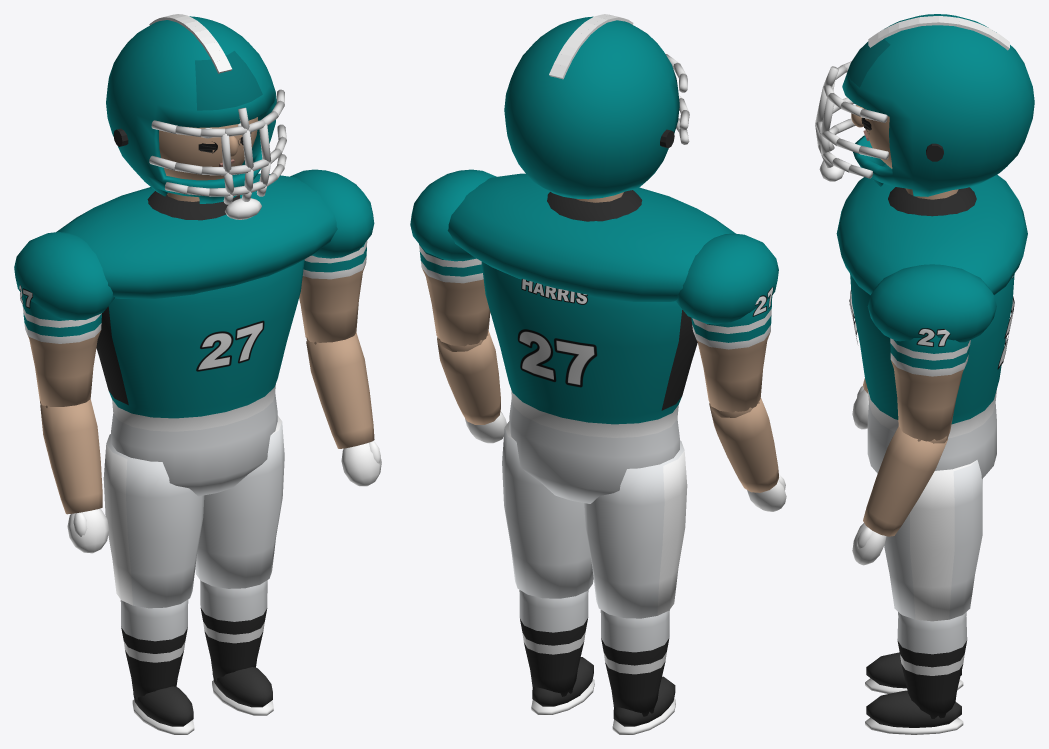
Rendered from player.glb.
3 renders of one model, left to right at view 1: azimuth 30°, elevation 25°; view 2: azimuth 150°, elevation 25°; view 3: azimuth 270°, elevation 25°, orthographic. The views are drawn at different scales.
Visible parts, largest first — view 1: Body, Helmet, LeftThigh, RightThigh, Facemask, LeftUpperArm, RightForearm, LeftForearm, RightShin, LeftShin, RightUpperArm, Head (+6 smaller); view 2: Body, Helmet, LeftThigh, RightThigh, LeftUpperArm, RightShin, LeftShin, RightUpperArm, LeftForearm, RightForearm, NumberBack, LeftCleat (+6 smaller); view 3: Body, Helmet, RightThigh, RightUpperArm, RightShin, RightForearm, Facemask, RightCleat, HelmetStripe, LeftCleat, RightHand, Head (+2 smaller).
Boxes of the visible parts, left/top/right/bottom form: Body: left=14, top=169, right=374, bottom=496; Helmet: left=106, top=16, right=276, bottom=203; LeftThigh: left=103, top=434, right=204, bottom=608; RightThigh: left=195, top=415, right=284, bottom=588; Facemask: left=149, top=89, right=286, bottom=219; LeftUpperArm: left=22, top=294, right=101, bottom=407; RightForearm: left=306, top=332, right=374, bottom=448; LeftForearm: left=40, top=399, right=102, bottom=514; RightShin: left=200, top=580, right=267, bottom=681; LeftShin: left=120, top=599, right=188, bottom=700; RightUpperArm: left=299, top=240, right=367, bottom=344; Head: left=159, top=117, right=258, bottom=180; Body: left=410, top=169, right=778, bottom=503; Helmet: left=504, top=16, right=679, bottom=199; LeftThigh: left=584, top=440, right=687, bottom=618; RightThigh: left=502, top=421, right=593, bottom=598; LeftUpperArm: left=691, top=295, right=772, bottom=417; RightShin: left=519, top=590, right=588, bottom=696; LeftShin: left=600, top=610, right=669, bottom=716; RightUpperArm: left=419, top=244, right=490, bottom=351; LeftForearm: left=709, top=397, right=778, bottom=492; RightForearm: left=437, top=331, right=500, bottom=424; NumberBack: left=517, top=329, right=597, bottom=387; LeftCleat: left=612, top=676, right=675, bottom=734; Body: left=836, top=164, right=1027, bottom=478; Helmet: left=842, top=14, right=1034, bottom=196; RightThigh: left=884, top=460, right=982, bottom=621; RightUpperArm: left=890, top=333, right=970, bottom=443; RightShin: left=897, top=612, right=967, bottom=718; RightForearm: left=863, top=426, right=947, bottom=536; Facemask: left=815, top=61, right=889, bottom=181; RightCleat: left=865, top=690, right=963, bottom=734; HelmetStripe: left=868, top=16, right=1009, bottom=50; LeftCleat: left=865, top=652, right=963, bottom=693; RightHand: left=852, top=523, right=886, bottom=565; Head: left=863, top=108, right=892, bottom=168.
Size of the model in its own units: 1.55 by 2.95 by 0.8493.
Materials: 23 (4 with a texture image).
